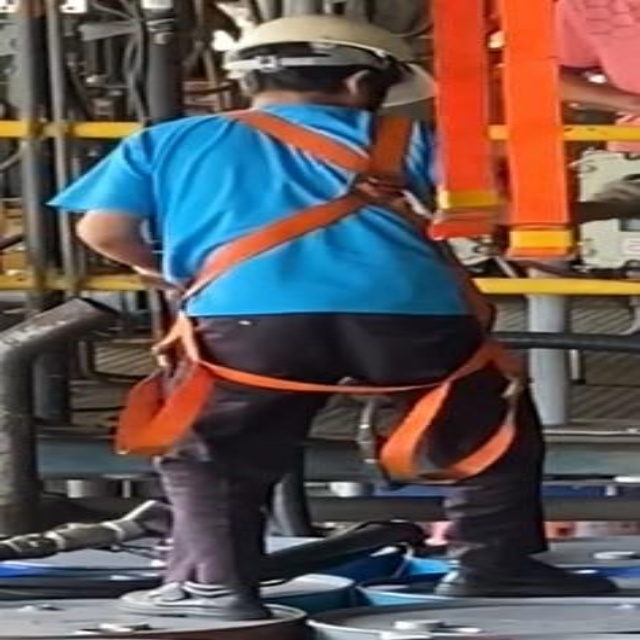Arnes_seguridad: (157, 107, 518, 390)
